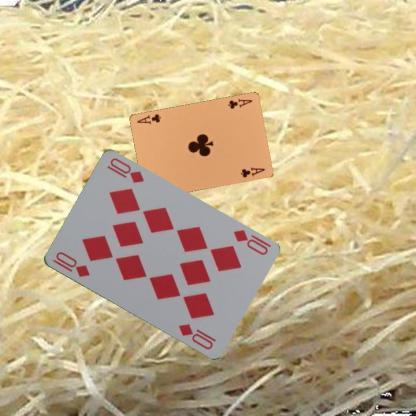10d: (230, 227, 272, 257), (50, 249, 90, 279)
Ac: (225, 96, 254, 110)
